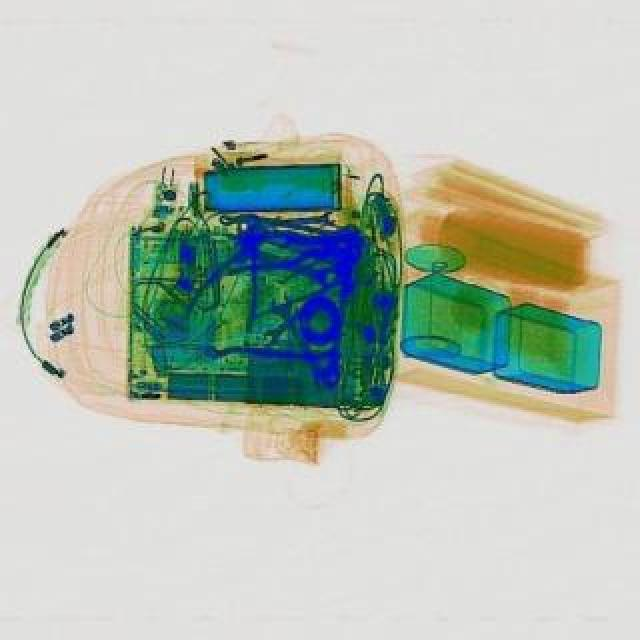scissors: (264, 288, 336, 392), (258, 274, 340, 346), (240, 208, 338, 234)
wrench: (182, 214, 282, 334)
